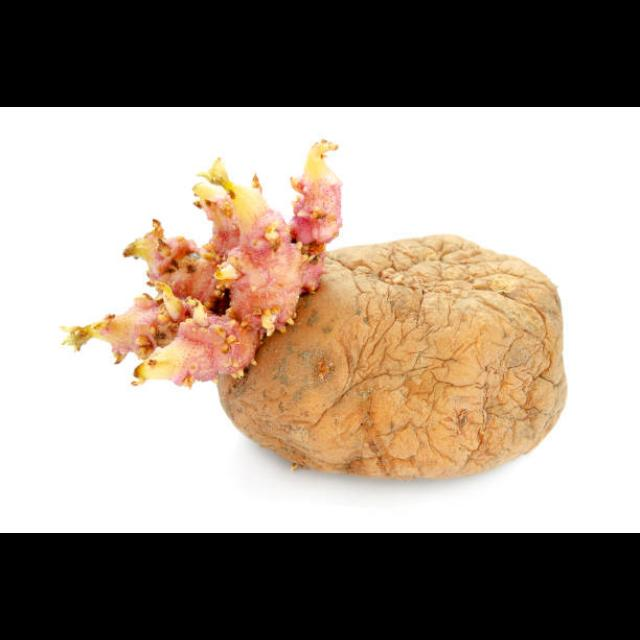Sprouted potato: (54, 142, 576, 490)
